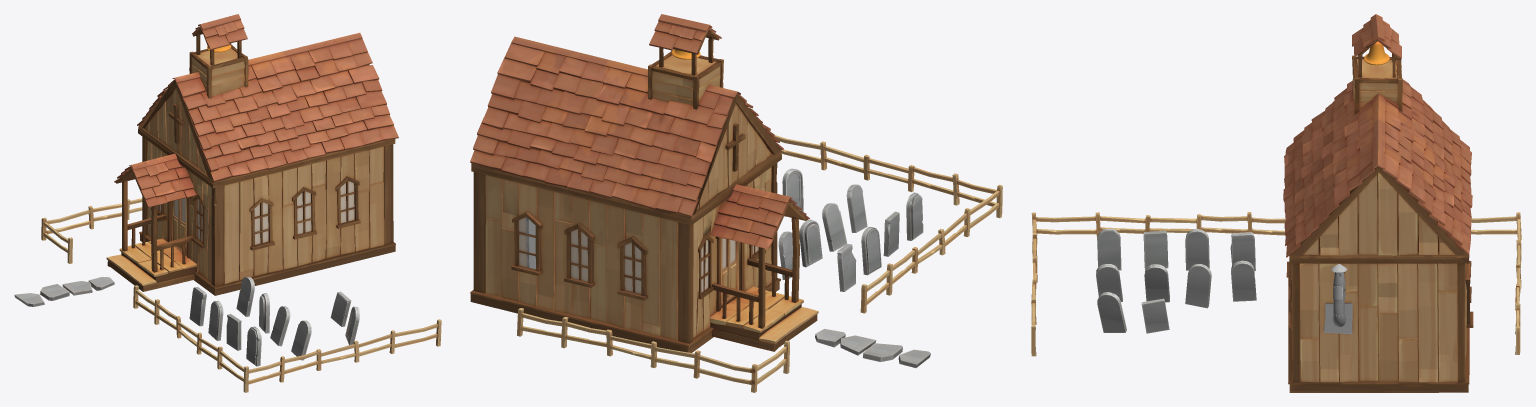
File: church2.fbx
The picture shows the model from 3 angles, left to right: view 1: azimuth 30°, elevation 25°; view 2: azimuth 150°, elevation 25°; view 3: azimuth 270°, elevation 25°; orthographic projection. The views are drawn at different scales.
Parts seen in each view (by area): view 1: curch_Baked.001; view 2: curch_Baked.001; view 3: curch_Baked.001.
Boxes of the visible parts, x1,y1,x2,y2 form: curch_Baked.001: (14, 14, 441, 392); curch_Baked.001: (470, 14, 1002, 392); curch_Baked.001: (1031, 14, 1521, 392).
Bounding box in the file's own units: 1444 × 971 × 1446.
